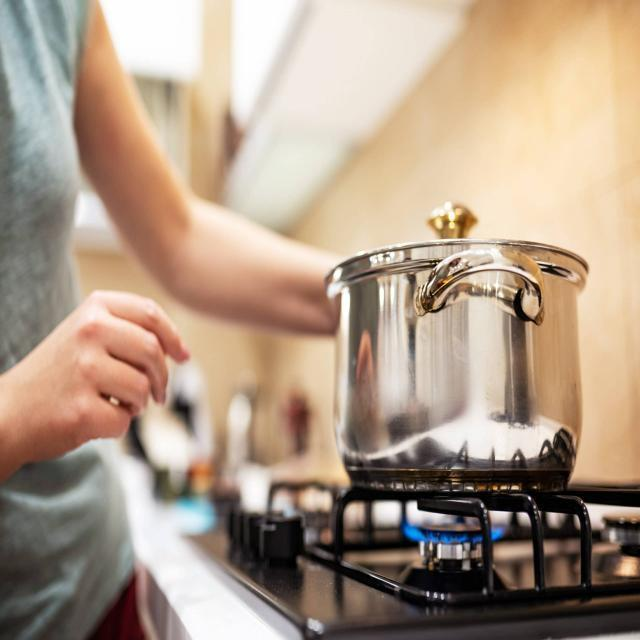Flame: (390, 503, 527, 569)
Pan: (330, 223, 611, 492)
